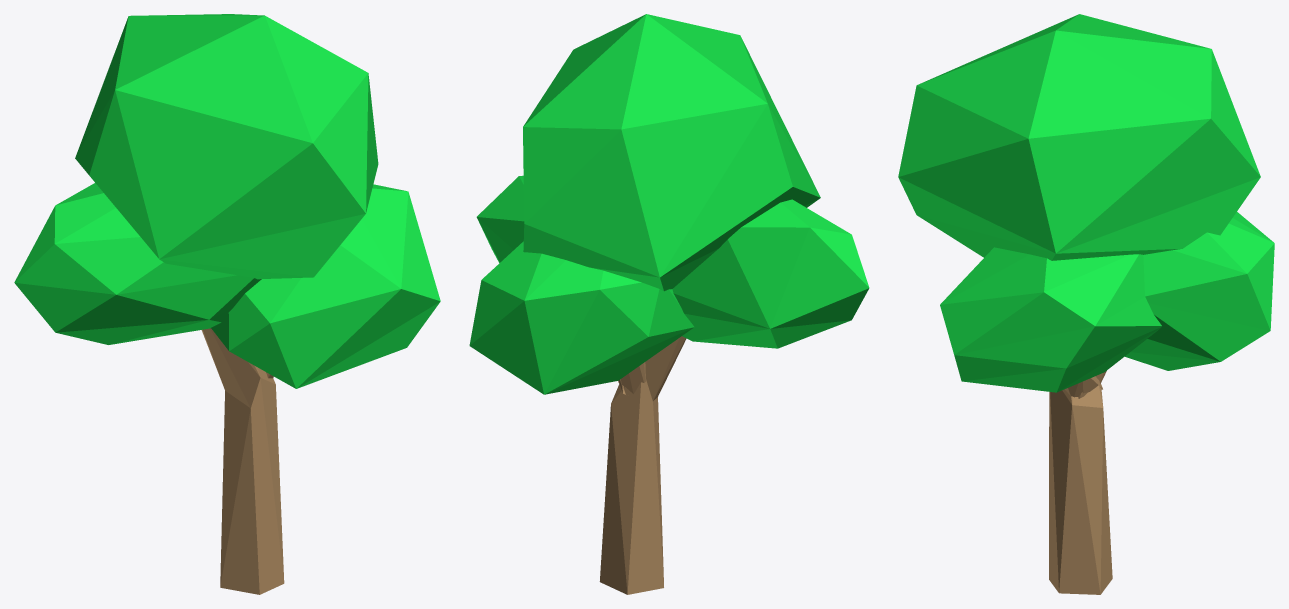
File: Tree2 1.fbx
The picture shows the model from 3 angles, left to right: view 1: azimuth 30°, elevation 25°; view 2: azimuth 150°, elevation 25°; view 3: azimuth 270°, elevation 25°; orthographic projection. The views are drawn at different scales.
Visible parts, largest first — view 1: Tree; view 2: Tree; view 3: Tree.
Part boxes in pixels (x1,y1,x2,y2): Tree: (14, 14, 440, 594); Tree: (469, 14, 869, 594); Tree: (898, 14, 1274, 594).
Bounding box in the file's own units: 817 × 1136 × 701.
